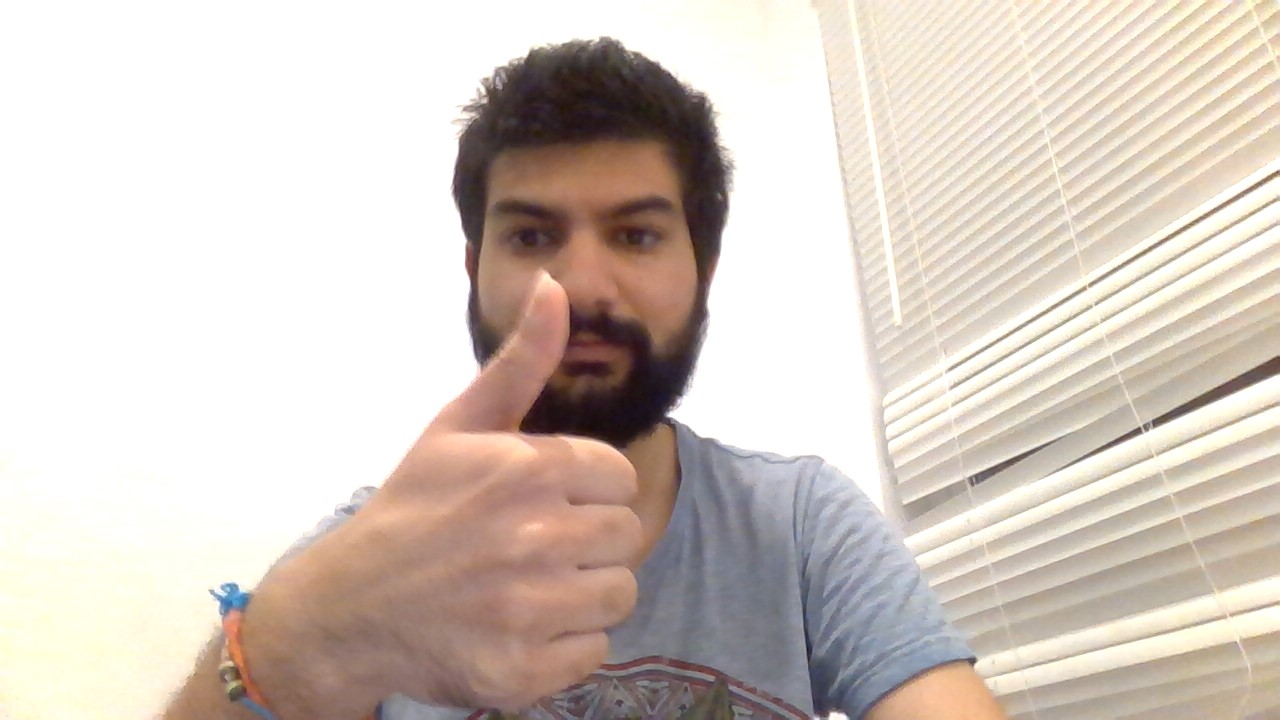up: (423, 260, 645, 714)
